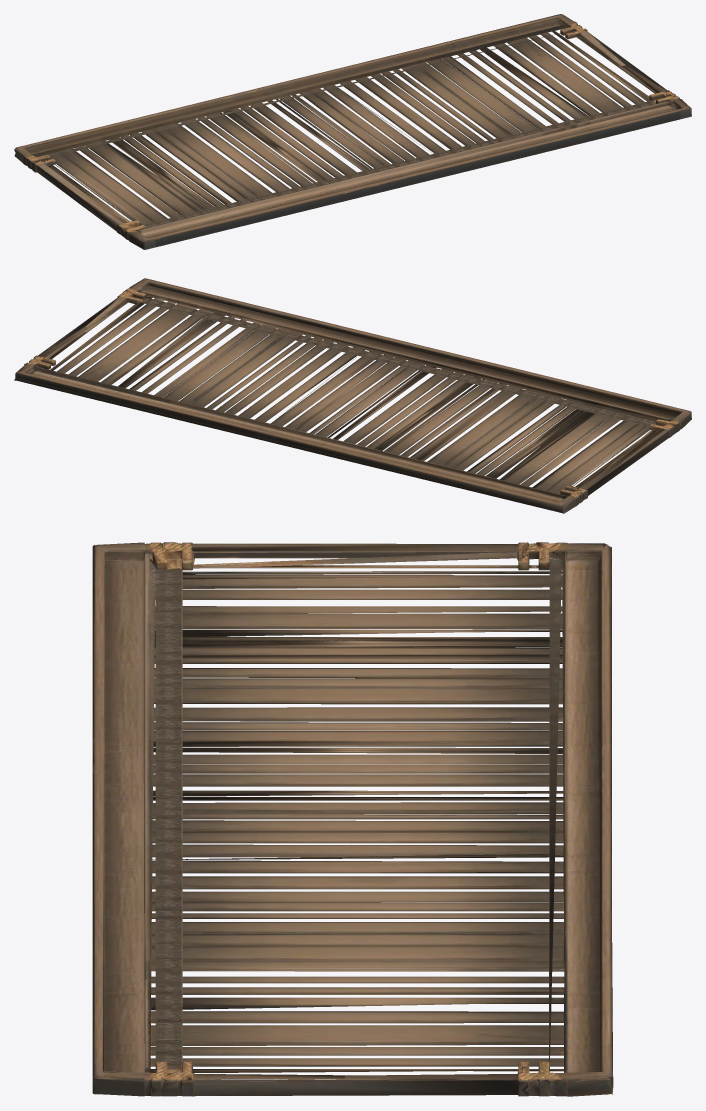
Rendered from dock.glb.
3 views of the same model, one above another, from view 1: azimuth 30°, elevation 25°; view 2: azimuth 150°, elevation 25°; view 3: azimuth 270°, elevation 25° (orthographic). The views are drawn at different scales.
Size of the model in its own units: 0.9497 by 0.0137 by 0.3877.
1 material, 1 textured.
